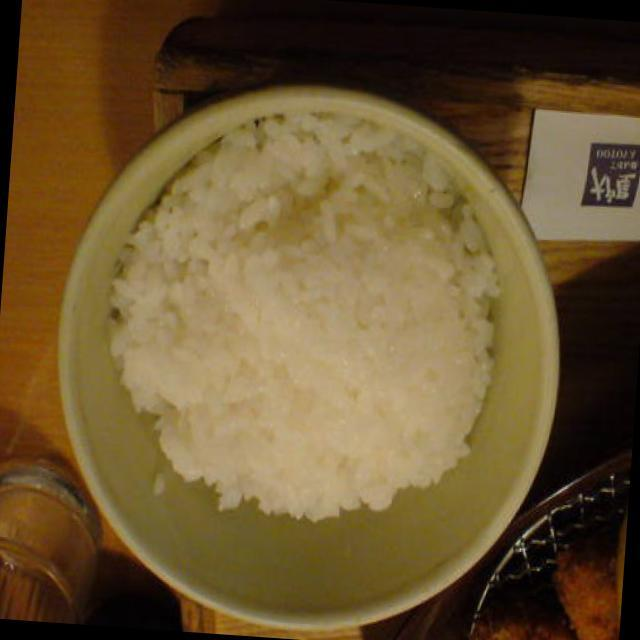Rice: (120, 139, 499, 527)
